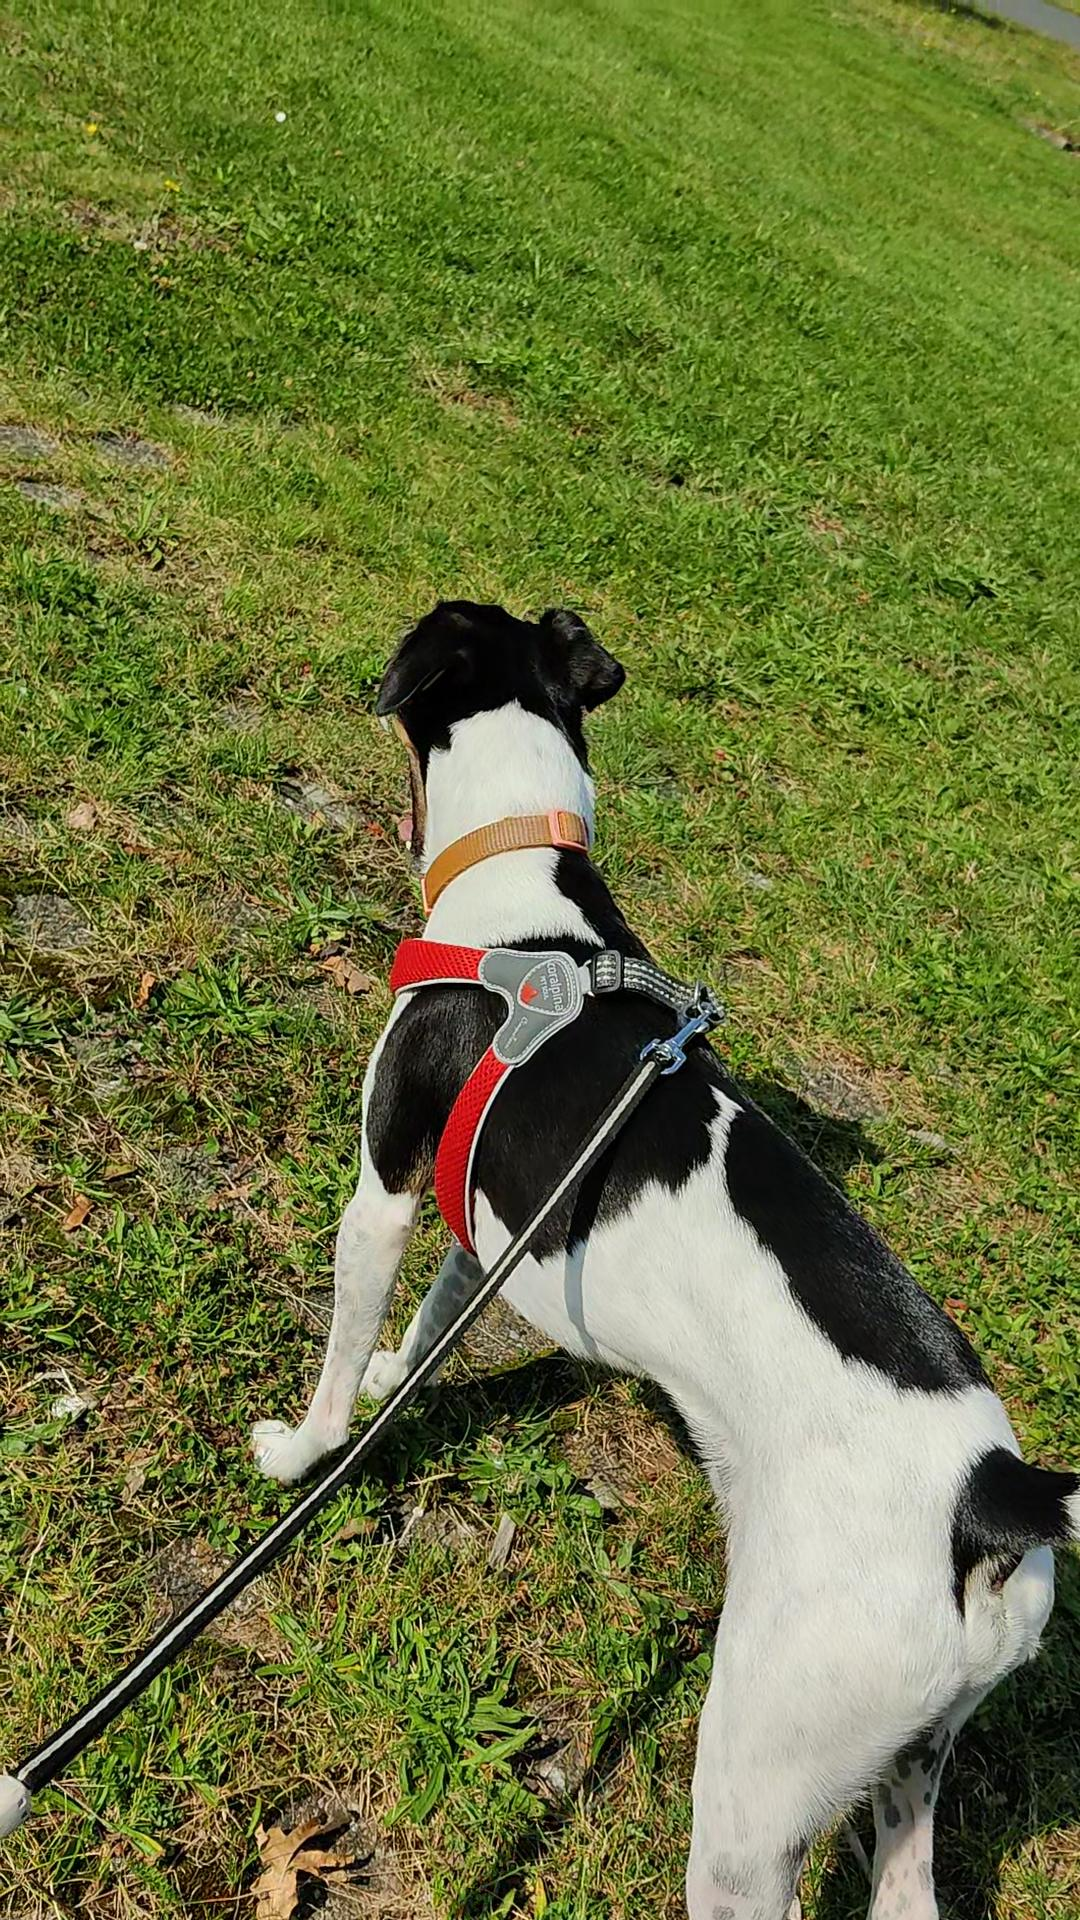Dog: (239, 534, 1079, 1919)
